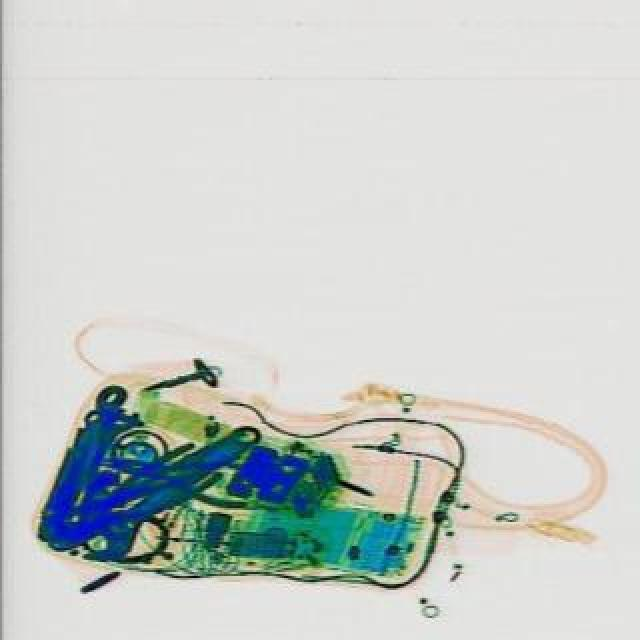scissors: (66, 410, 272, 570)
